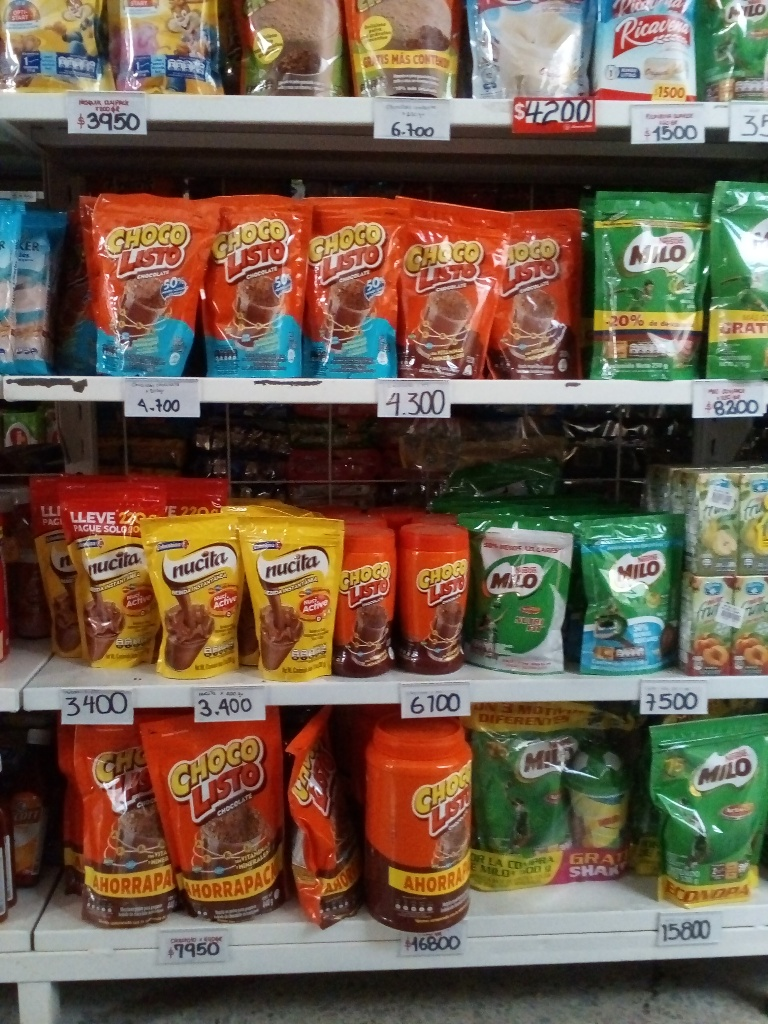COL0170103DYP20000: (402, 198, 507, 380)
COL0170103DYP44000: (280, 711, 368, 927)
COL0170103TRR00100: (367, 711, 476, 932)
COL0170104DYP20000: (88, 193, 212, 380)
COL0170203DYP25000: (593, 190, 707, 380)
COL0170203DYP50000: (646, 720, 767, 908)
COL0170205DYP20000: (573, 518, 680, 674)
